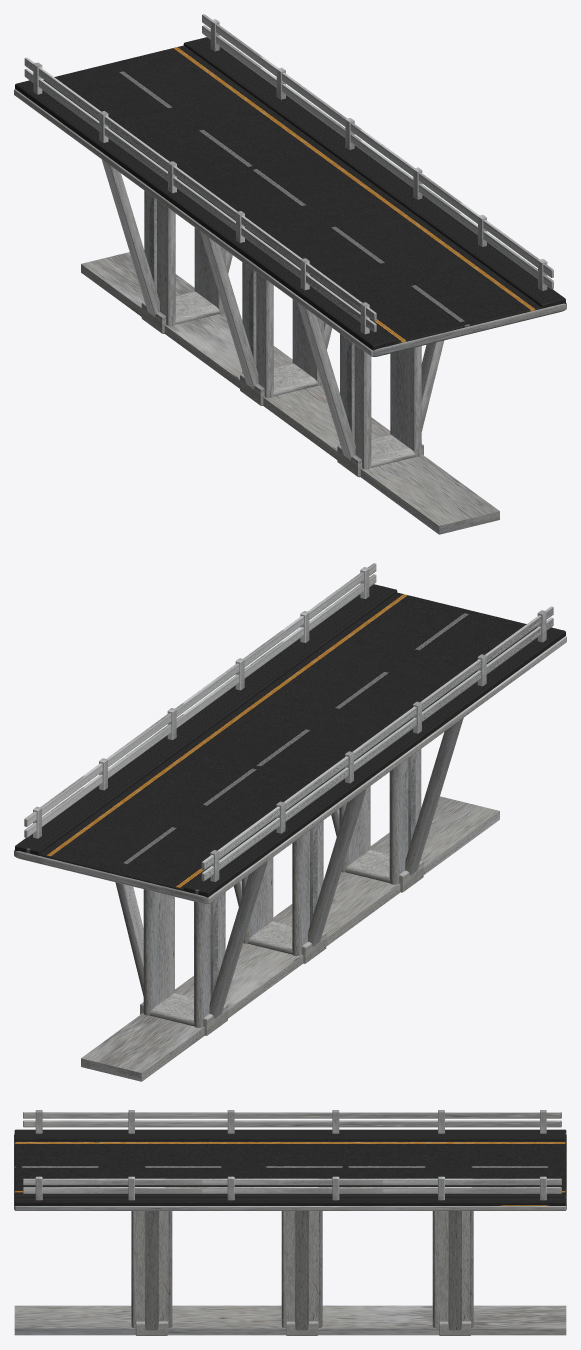
The model's file is bridge.glb.
The picture shows the model from 3 angles, top to bottom: view 1: azimuth 30°, elevation 25°; view 2: azimuth 150°, elevation 25°; view 3: azimuth 270°, elevation 25°; orthographic projection. The views are drawn at different scales.
Visible parts, largest first — view 1: pCube88; view 2: pCube88; view 3: pCube88.
Boxes of the visible parts, x1,y1,x2,y2 form: pCube88: [14, 14, 566, 534]; pCube88: [14, 563, 566, 1081]; pCube88: [14, 1110, 566, 1335].
Bounding box in the file's own units: 0.0386 × 0.0439 × 0.1223.
Materials: 4 (3 with a texture image).
